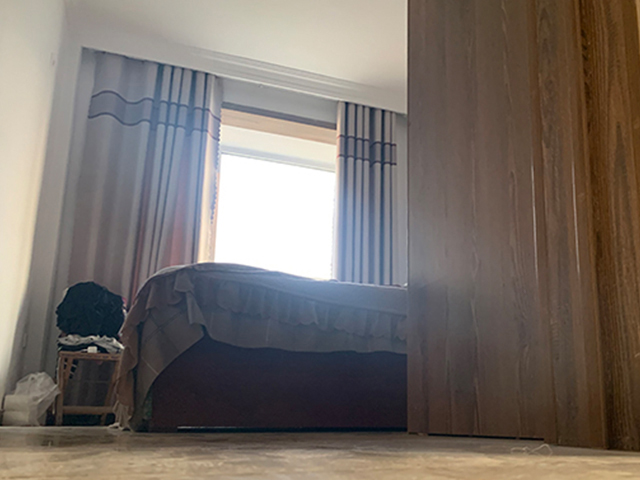bed: (113, 261, 409, 433)
curtain: (90, 55, 210, 288), (333, 104, 402, 287)
